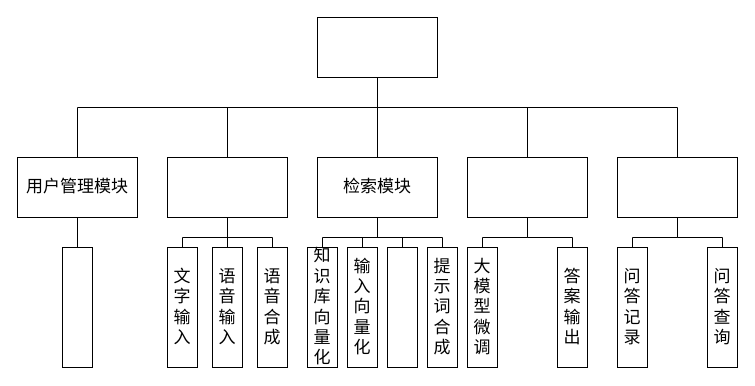
Some shapes in this 755 by 386 pixel diagram are drawn without their labels. Here are the shapes that lost their labels. From the top down, the box of each, then its label:
(316, 16, 438, 78): 健康问答系统
(166, 156, 288, 218): 交互模块
(466, 156, 588, 218): 大模型模块
(616, 156, 738, 218): 历史消息模块
(62, 246, 92, 368): 欢迎页面
(386, 246, 418, 368): 相似度比对
